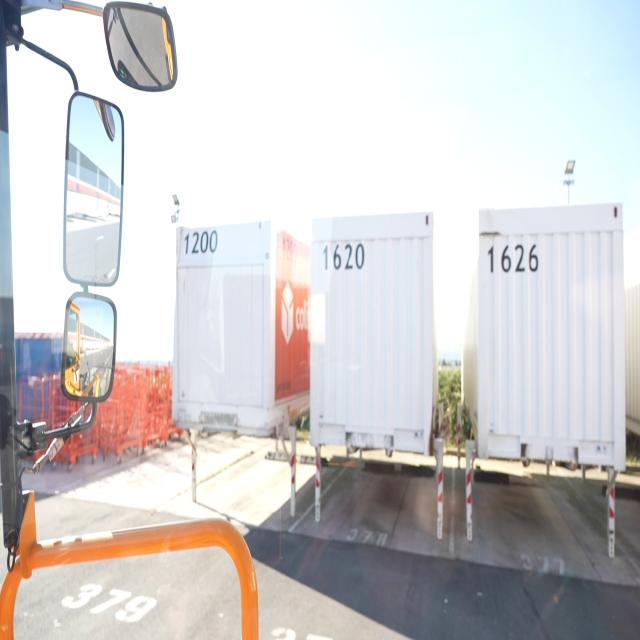Code: (485, 236, 543, 280), (320, 234, 366, 273), (183, 226, 217, 258)
